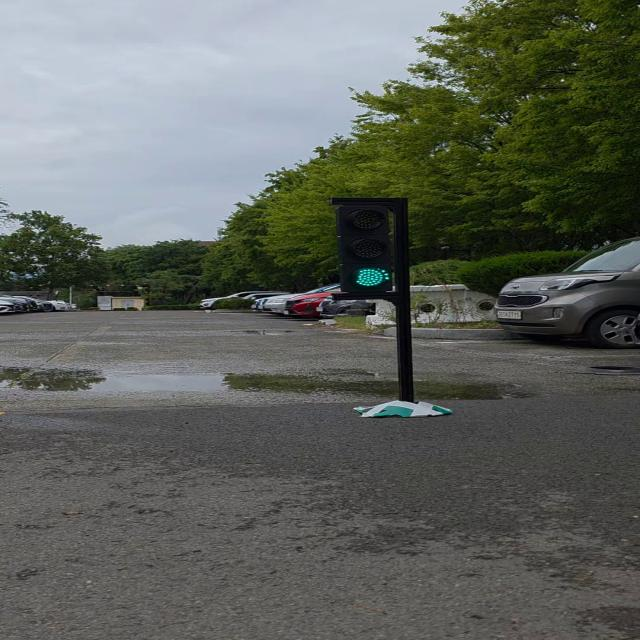green: (332, 196, 404, 296)
